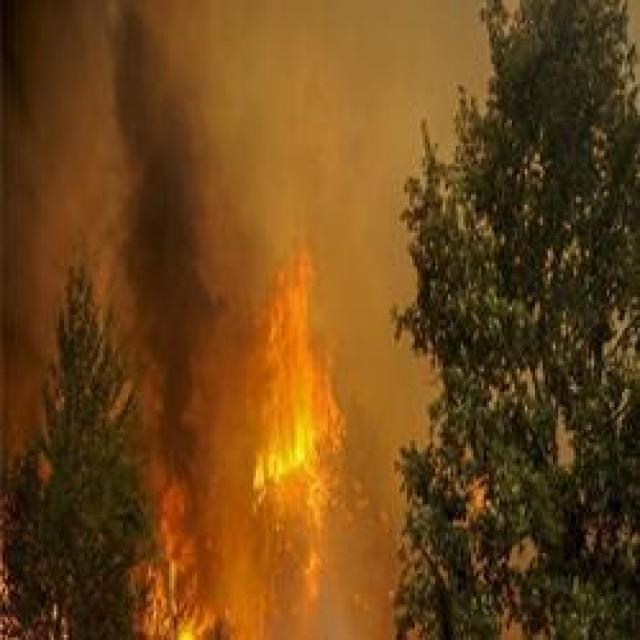fire: (256, 436, 325, 481)
smoke: (90, 7, 208, 175), (127, 192, 220, 366), (146, 352, 214, 464), (4, 5, 66, 127)
